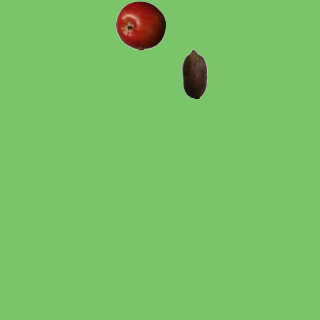Apple Braeburn: (115, 0, 165, 50)
Nut Pecan: (169, 48, 219, 98)
